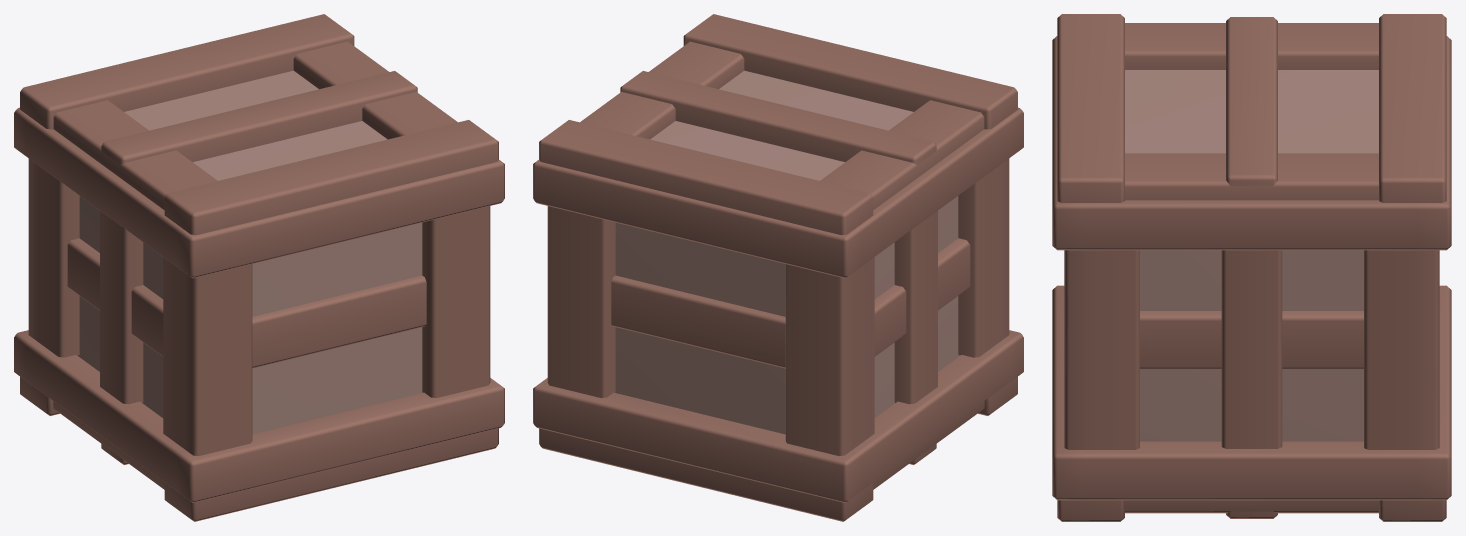
The model's file is Farm_9_Box_1.glb.
3 views of the same model, side by side, from view 1: azimuth 30°, elevation 25°; view 2: azimuth 150°, elevation 25°; view 3: azimuth 270°, elevation 25° (orthographic). The views are drawn at different scales.
Parts seen in each view (by area): view 1: Farm_9_Box_1; view 2: Farm_9_Box_1; view 3: Farm_9_Box_1.
Boxes of the visible parts, box(x1,y1,x2,y2) form: Farm_9_Box_1: box(14, 14, 504, 521); Farm_9_Box_1: box(533, 14, 1023, 521); Farm_9_Box_1: box(1052, 14, 1451, 521).
Bounding box in the file's own units: 0.8857 × 0.8299 × 0.8713.
1 material, 1 textured.
